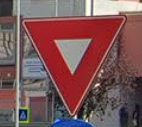cedeaza: (16, 13, 128, 117)
